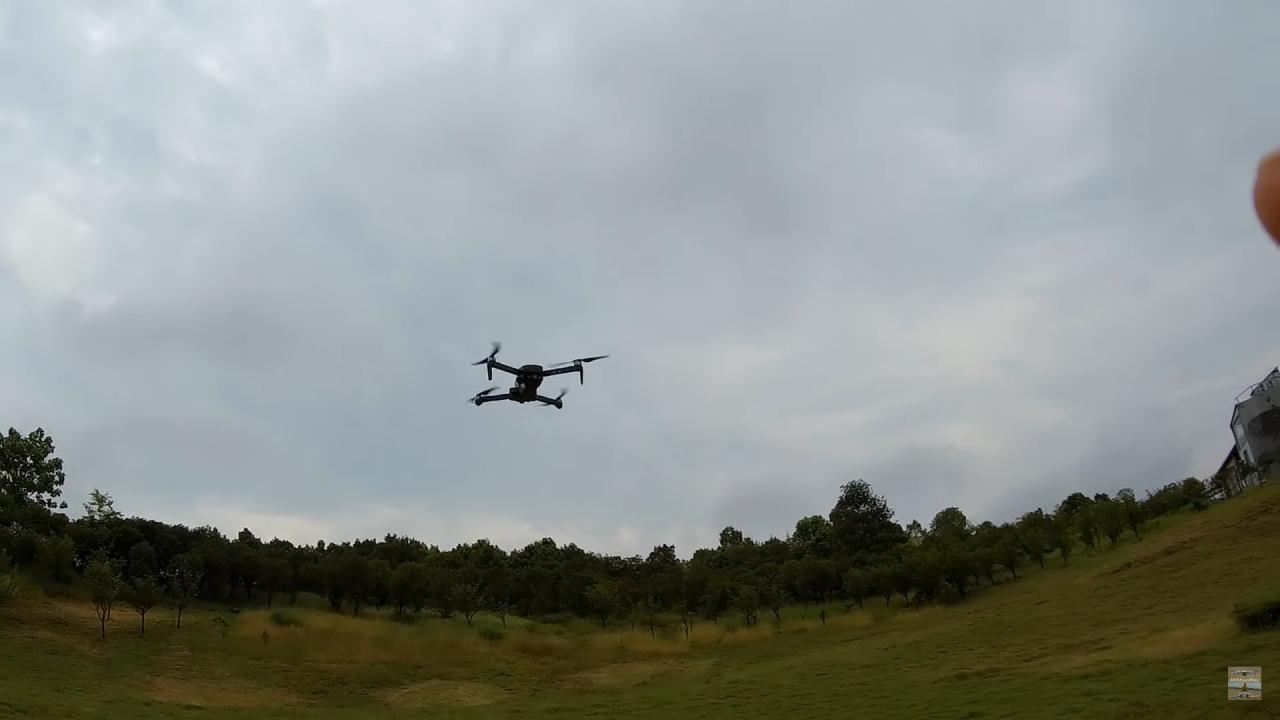Drone: (459, 330, 618, 423)
